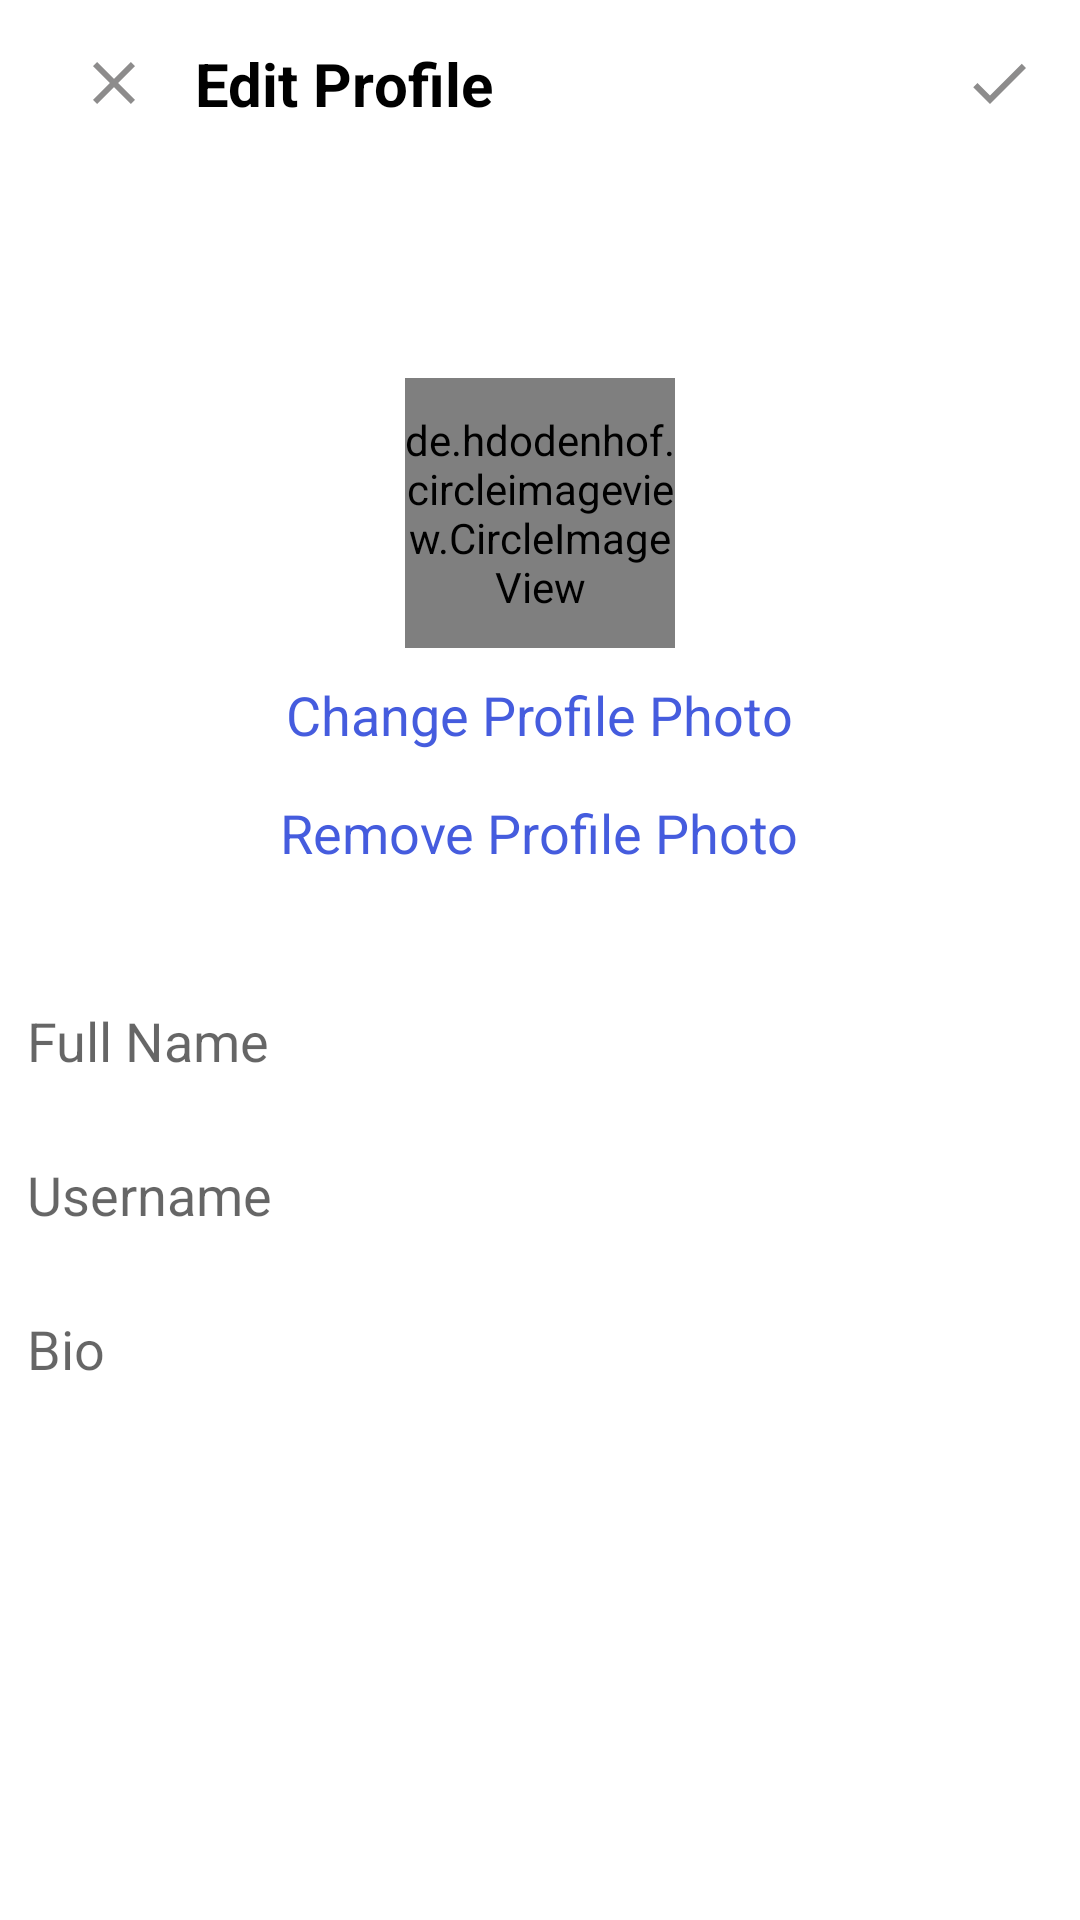

Where icons sit on this 1080 x 1920 app screen, as (x1, y1, x2, y2):
check: (973, 64, 1026, 104)
close: (93, 62, 135, 104)
